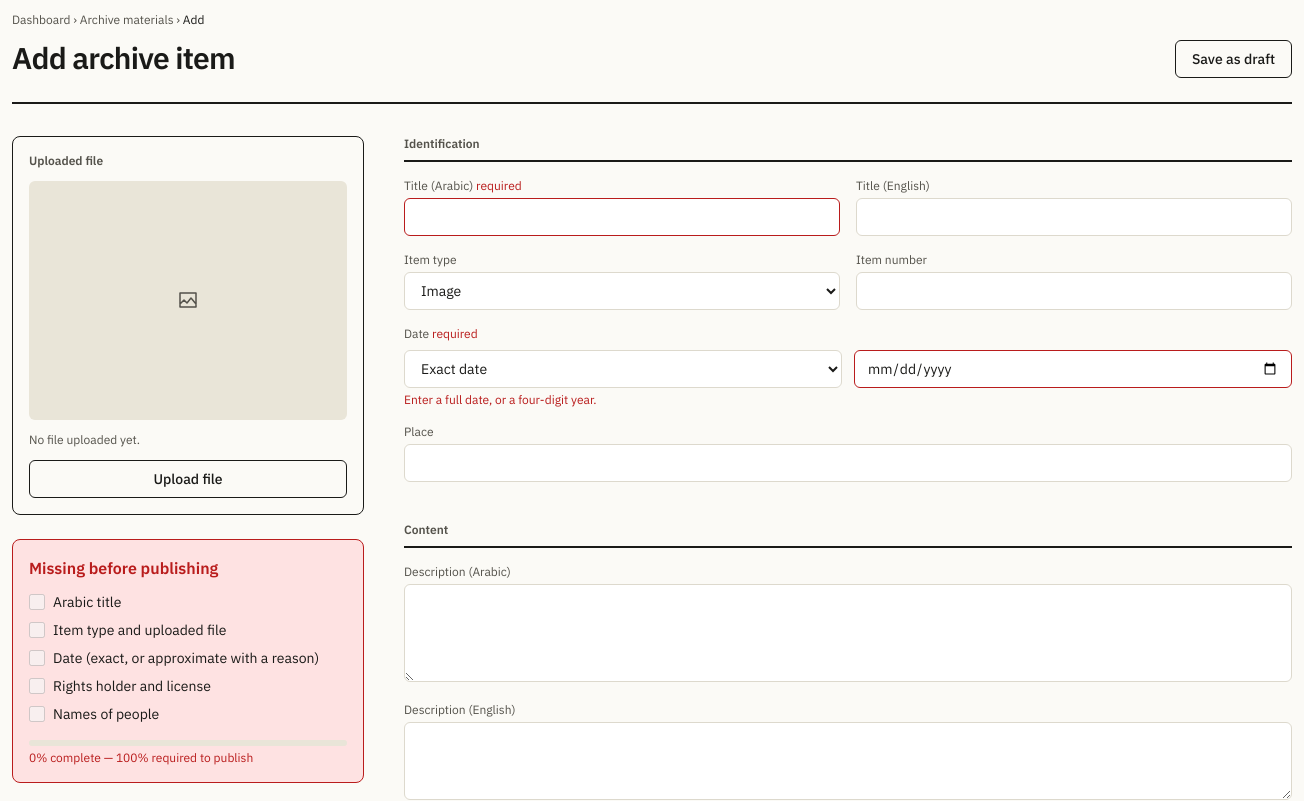
Test: ArchiveEditPage (approximate dates) › treats a bare year as an exact date
Select "Year only" in the dropdown with test id "date-mode" at (623, 369), box [404,350,842,388]
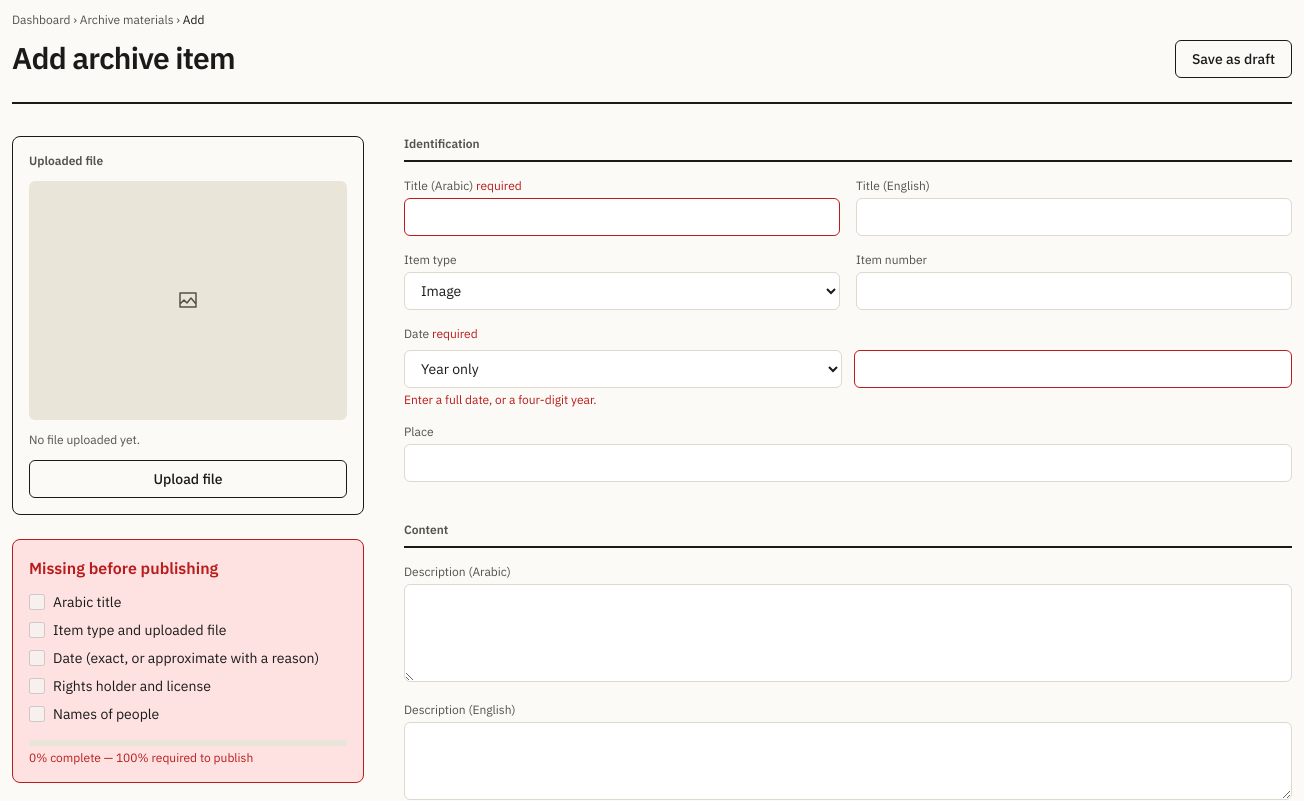
Type "1984" into the number field with test id "year-input" at (1073, 369), box [854,350,1292,388]
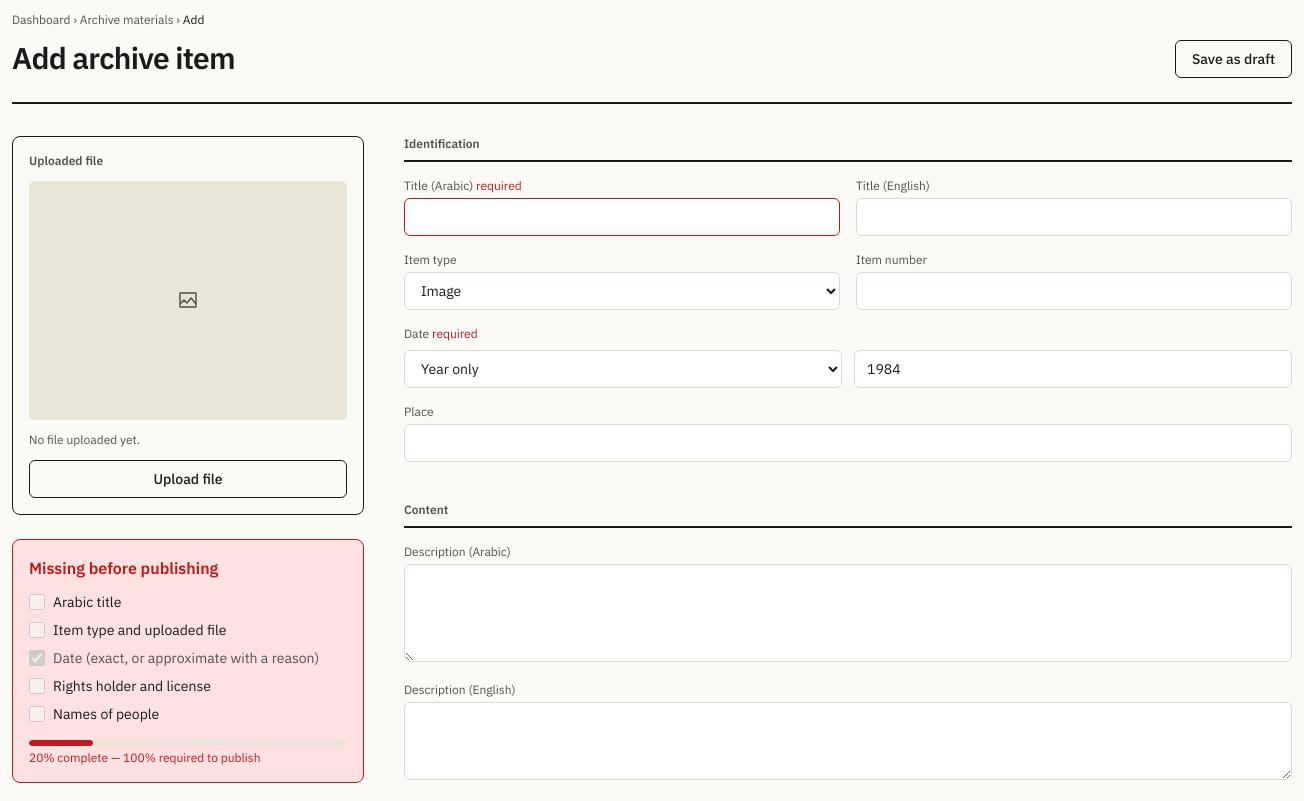
Expected: the checkbox named "Date (exact, or approximate with a reason)" is checked, [29,650,45,666]
